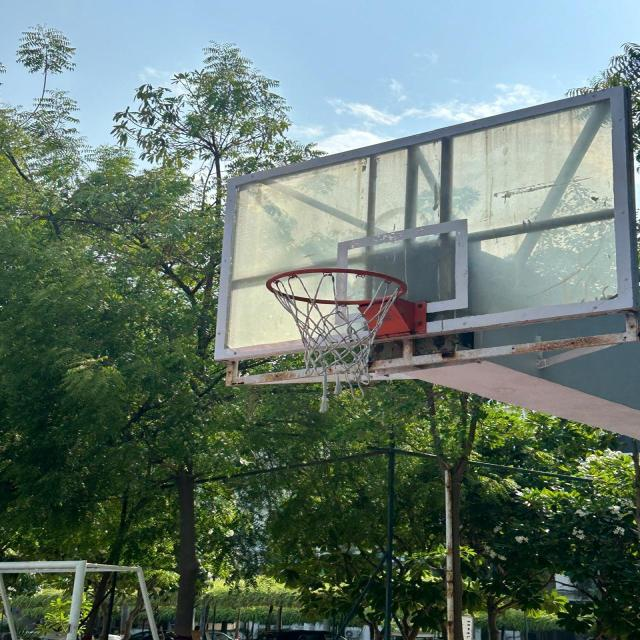hoop: (255, 267, 432, 388)
